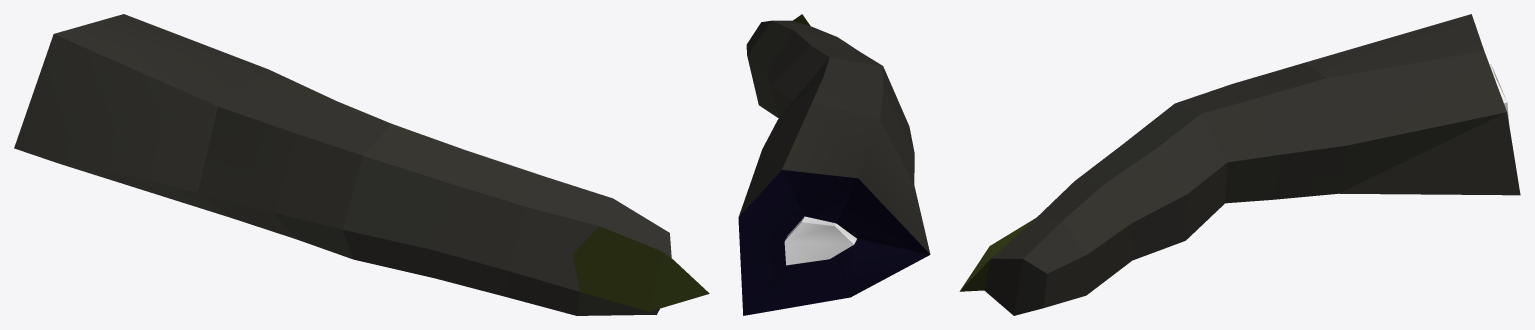
Rendered from StrigaFinger.fbx.
3 renders of one model, left to right at view 1: azimuth 30°, elevation 25°; view 2: azimuth 150°, elevation 25°; view 3: azimuth 270°, elevation 25°, orthographic. The views are drawn at different scales.
Parts seen in each view (by area): view 1: Striga Finger; view 2: Striga Finger; view 3: Striga Finger.
Part boxes in pixels (x1=…): Striga Finger: x1=14, y1=14, x2=709, y2=315; Striga Finger: x1=738, y1=14, x2=930, y2=315; Striga Finger: x1=959, y1=14, x2=1520, y2=315.
Bounding box in the file's own units: 142 × 56.97 × 184.
